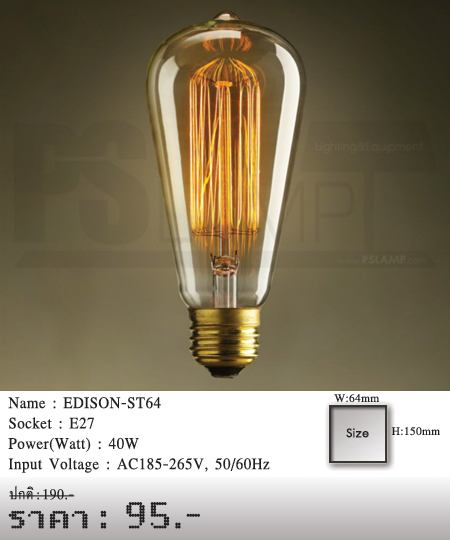Light_bulb: (149, 9, 310, 385)
